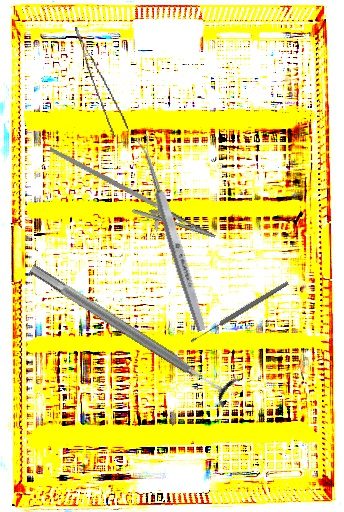Fixation Ring: (22, 252, 242, 409)
Needle Holder: (35, 147, 225, 252)
Surgical Spoon: (135, 133, 209, 333), (189, 280, 290, 344)
Tissue Forceps: (74, 21, 130, 139)
